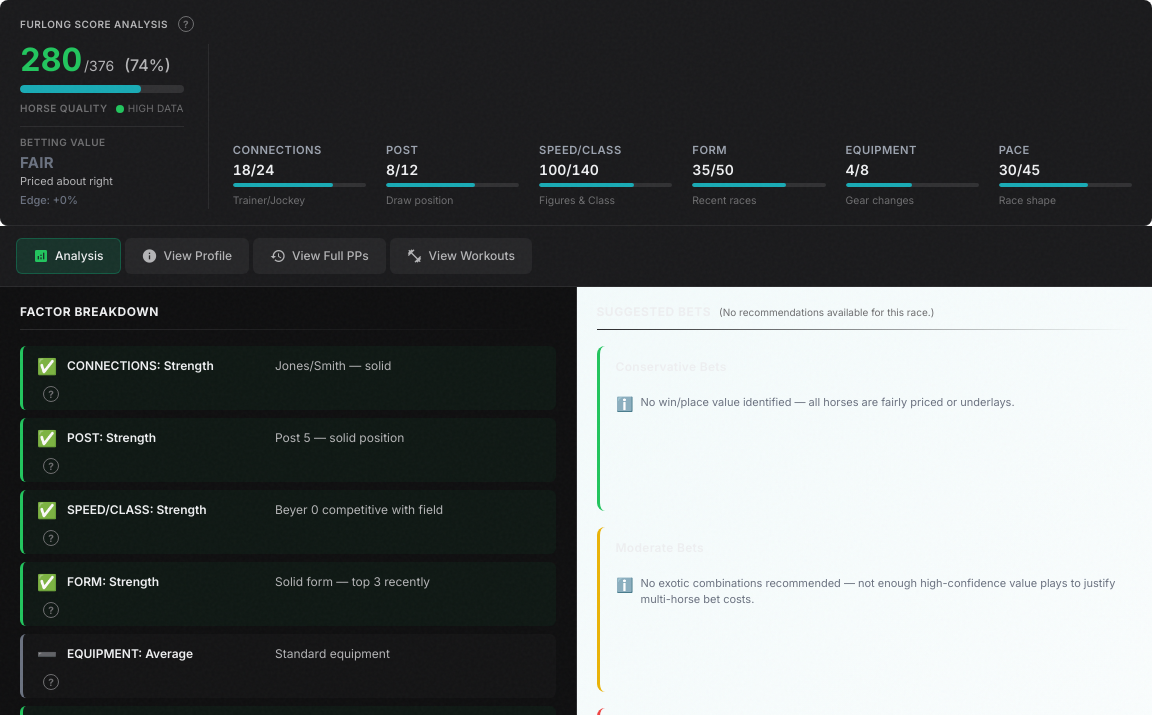
Test: HorseExpandedView › Tab Navigation › switches to profile tab when clicked
Click the text "View Profile". click: (198,256)
box: [164,247,232,265]
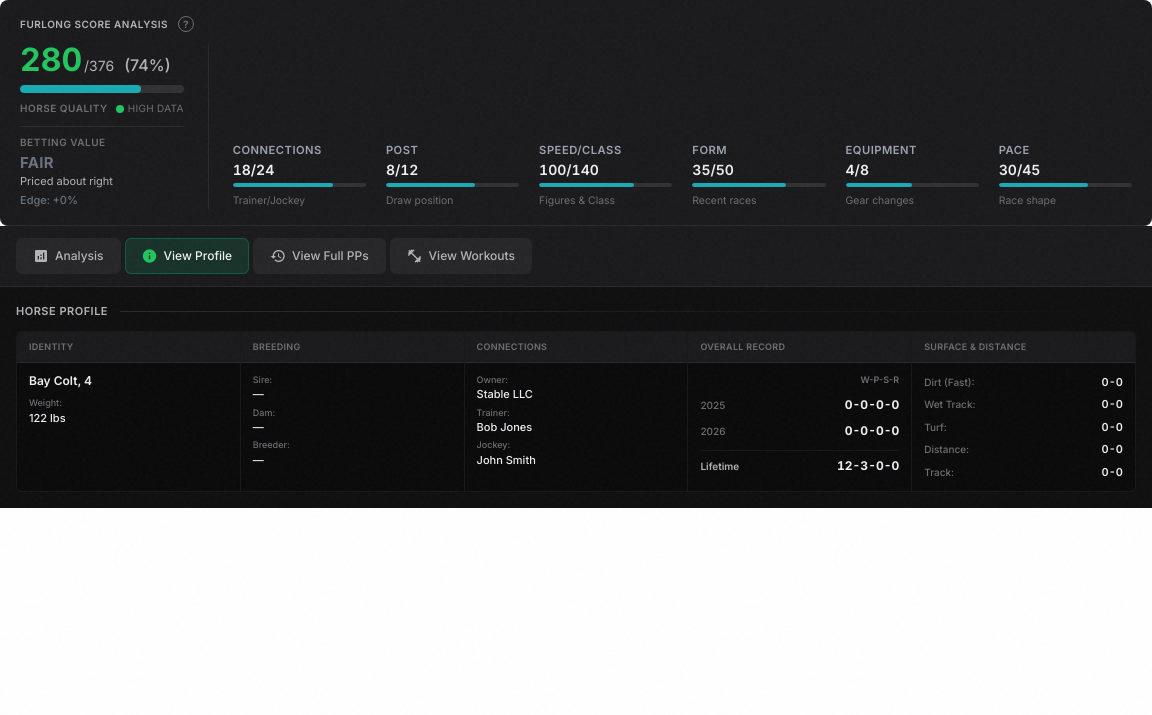
Check: the text "HORSE PROFILE" is shown, box [16,303,108,319]
Check: the text "IDENTITY" is shown, box [17,332,240,363]
Check: the text "BREEDING" is shown, box [241,332,464,363]
